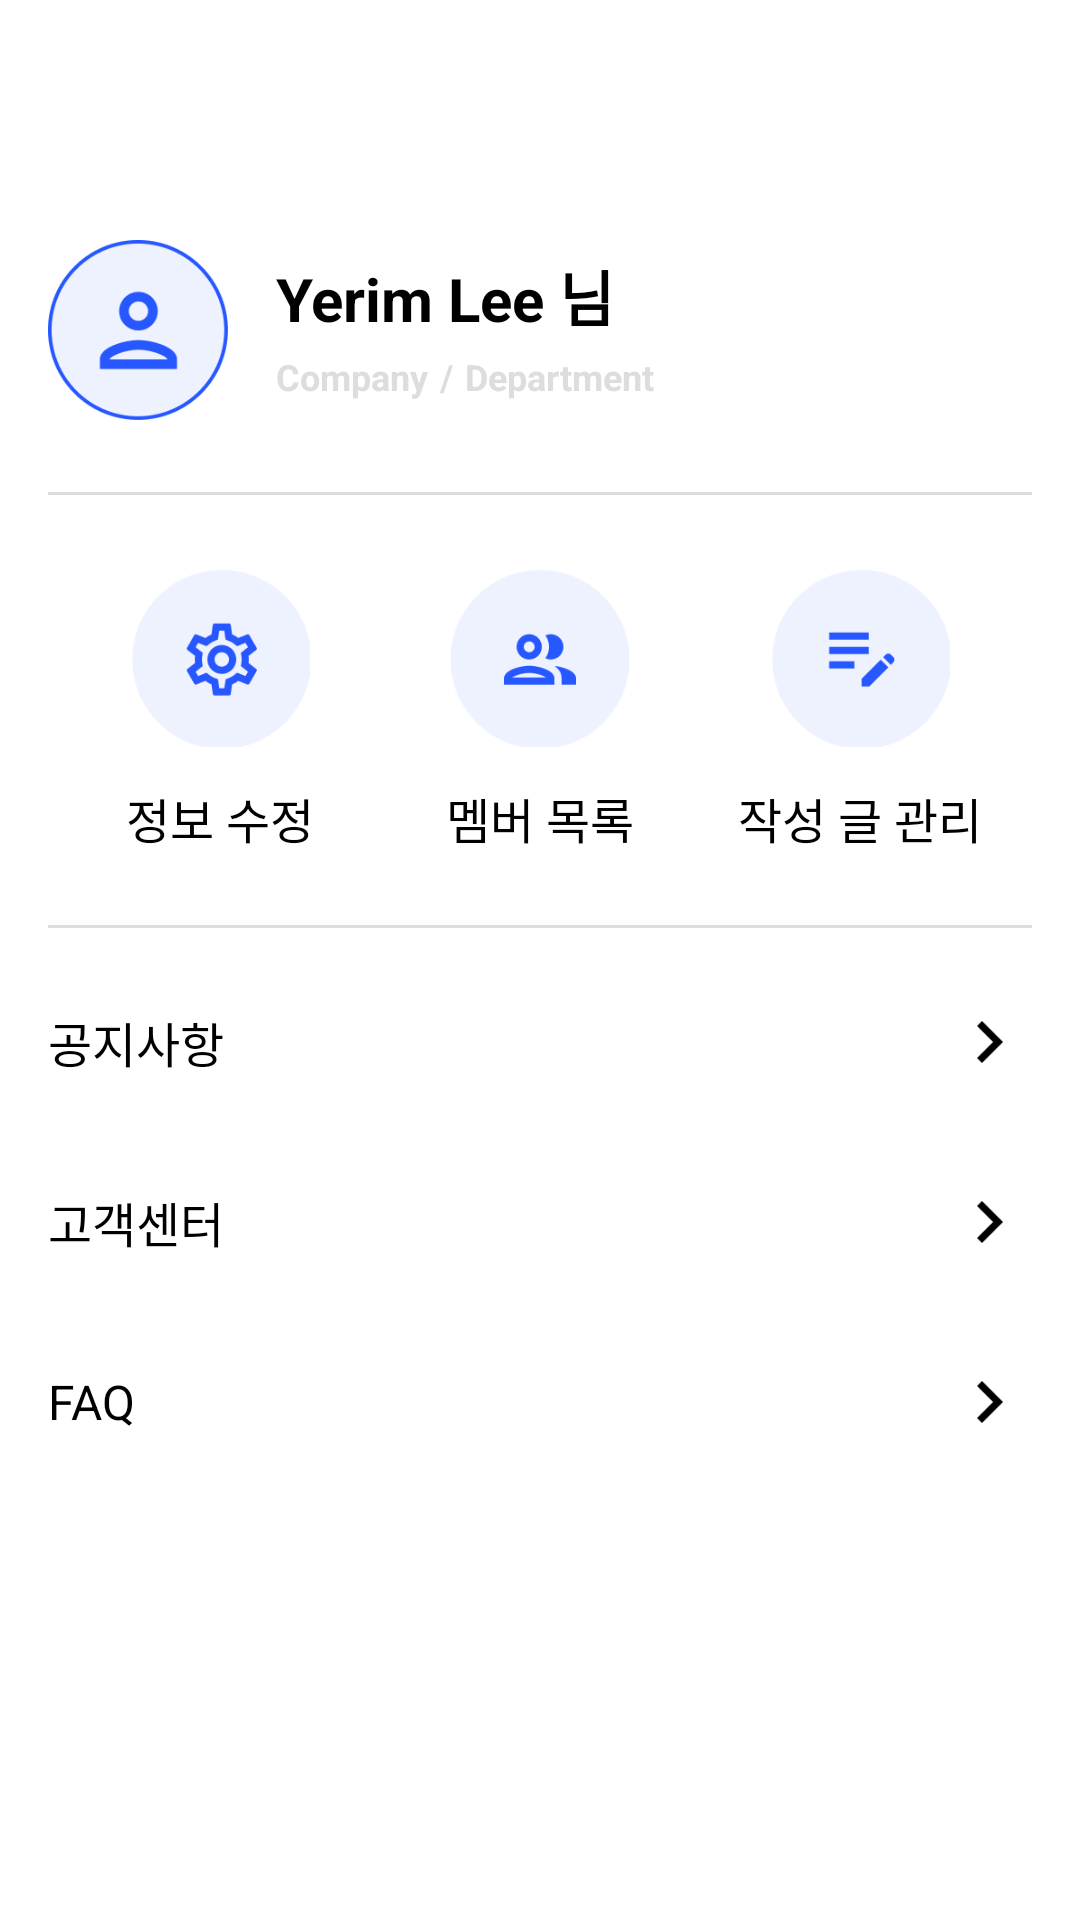

Icons on this 1080x1920 Android screen, each with the point to tap as point (x, y):
arrow right: point (990, 1042), point (990, 1222), point (990, 1402)
members: point (540, 659)
profile blank: point (138, 330)
setting: point (221, 659)
